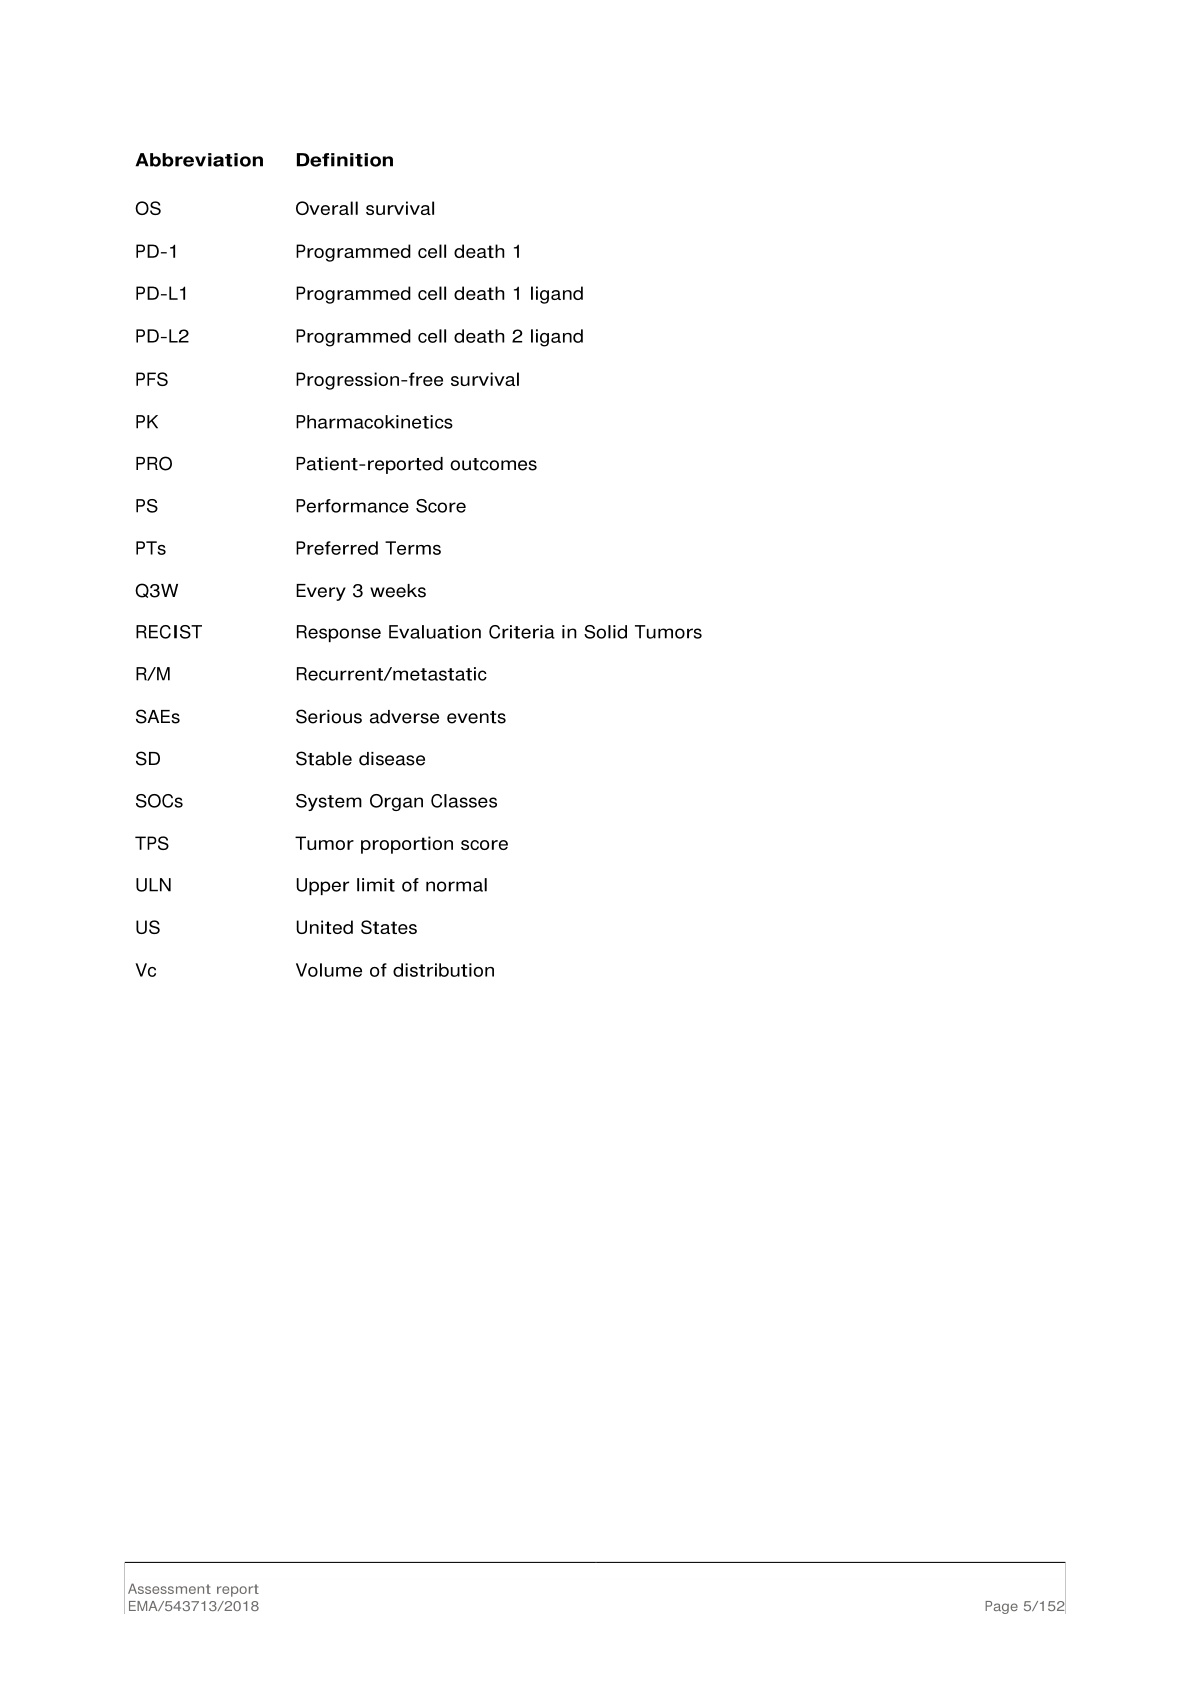nolines: (126, 147, 704, 985)
